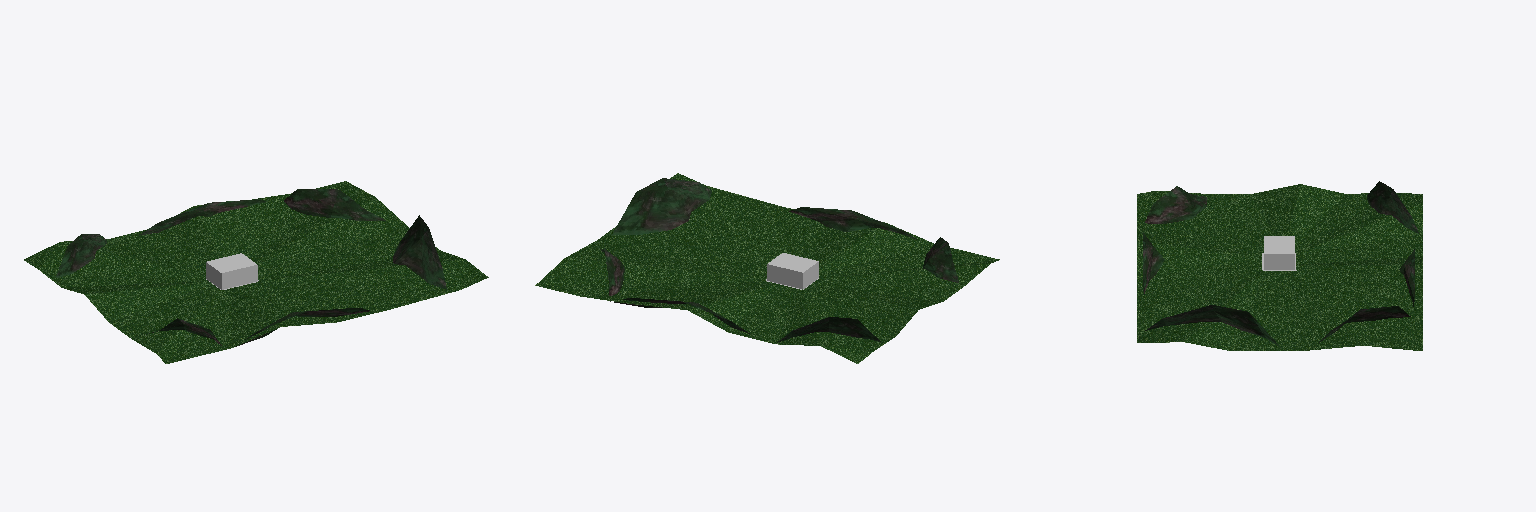
The picture shows the model from 3 angles: view 1: azimuth 30°, elevation 25°; view 2: azimuth 150°, elevation 25°; view 3: azimuth 270°, elevation 25°; orthographic projection.
Parts seen in each view (by area): view 1: RiceField, RiceFieldCollisionBox; view 2: RiceField, RiceFieldCollisionBox; view 3: RiceField, RiceFieldCollisionBox.
Boxes of the visible parts, x1,y1,x2,y2 form: RiceField: [24, 181, 488, 363]; RiceFieldCollisionBox: [206, 253, 258, 289]; RiceField: [535, 173, 999, 363]; RiceFieldCollisionBox: [766, 253, 818, 289]; RiceField: [1137, 181, 1422, 350]; RiceFieldCollisionBox: [1262, 236, 1296, 270].
Bounding box in the file's own units: 108979 × 12358 × 83521.
Materials: 7 (6 with a texture image).